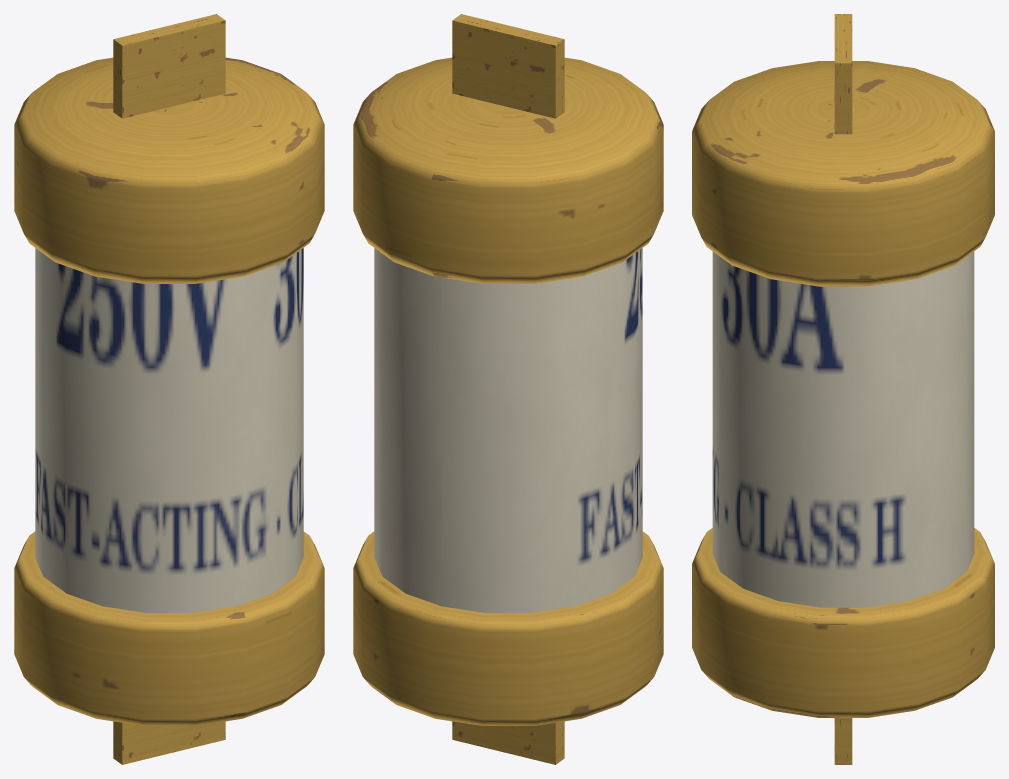
The model's file is fuse.obj.
3 views of the same model, side by side, from view 1: azimuth 30°, elevation 25°; view 2: azimuth 150°, elevation 25°; view 3: azimuth 270°, elevation 25° (orthographic). The views are drawn at different scales.
Parts seen in each view (by area): view 1: fuse_1_surface, fuse_0_surface; view 2: fuse_1_surface, fuse_0_surface; view 3: fuse_1_surface, fuse_0_surface.
Part boxes in pixels (x1=…): fuse_1_surface: x1=14, y1=14, x2=324, y2=764; fuse_0_surface: x1=35, y1=248, x2=303, y2=612; fuse_1_surface: x1=353, y1=14, x2=663, y2=764; fuse_0_surface: x1=374, y1=248, x2=642, y2=612; fuse_1_surface: x1=692, y1=14, x2=994, y2=764; fuse_0_surface: x1=712, y1=251, x2=974, y2=607.
Bounding box in the file's own units: 0.1024 × 0.266 × 0.104.
Materials: 2 (2 with a texture image).
